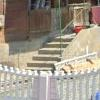stairs: (17, 28, 85, 66)
